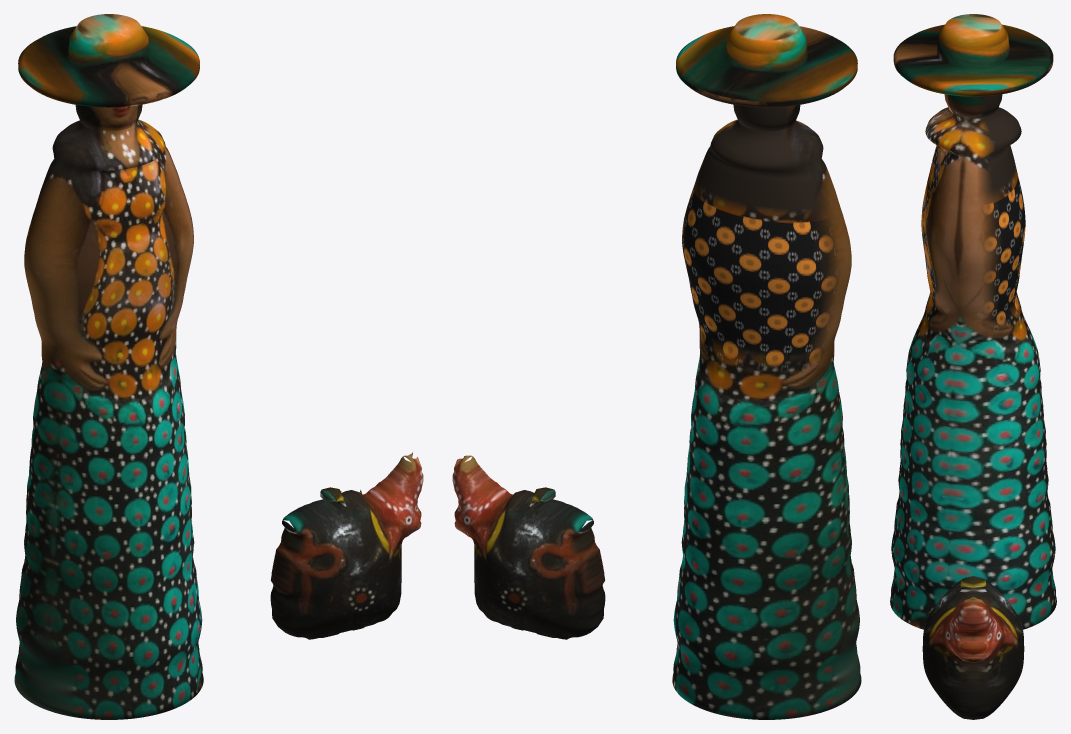
The model's file is boneca_e_boi_23_web.glb.
The picture shows the model from 3 angles, left to right: view 1: azimuth 30°, elevation 25°; view 2: azimuth 150°, elevation 25°; view 3: azimuth 270°, elevation 25°; orthographic projection. The views are drawn at different scales.
Visible parts, largest first — view 1: Boneca_de_Ceramica, Boi_de_Ceramica; view 2: Boneca_de_Ceramica, Boi_de_Ceramica; view 3: Boneca_de_Ceramica, Boi_de_Ceramica.
Boxes of the visible parts, x1,y1,x2,y2 form: Boneca_de_Ceramica: (14, 14, 203, 719); Boi_de_Ceramica: (270, 452, 423, 639); Boneca_de_Ceramica: (672, 14, 861, 719); Boi_de_Ceramica: (452, 455, 605, 639); Boneca_de_Ceramica: (890, 14, 1056, 629); Boi_de_Ceramica: (922, 576, 1024, 719).
Size of the model in its own units: 0.1848 by 0.2967 by 0.0771.
Materials: 2 (2 with a texture image).
